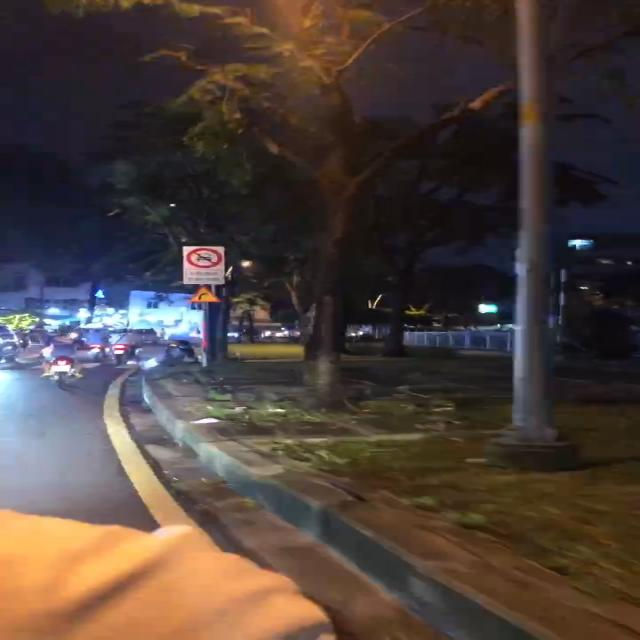Bien bao cam xe oto: (182, 246, 224, 268)
Bien bao cho ngoat nguy hiem: (185, 286, 224, 303)
